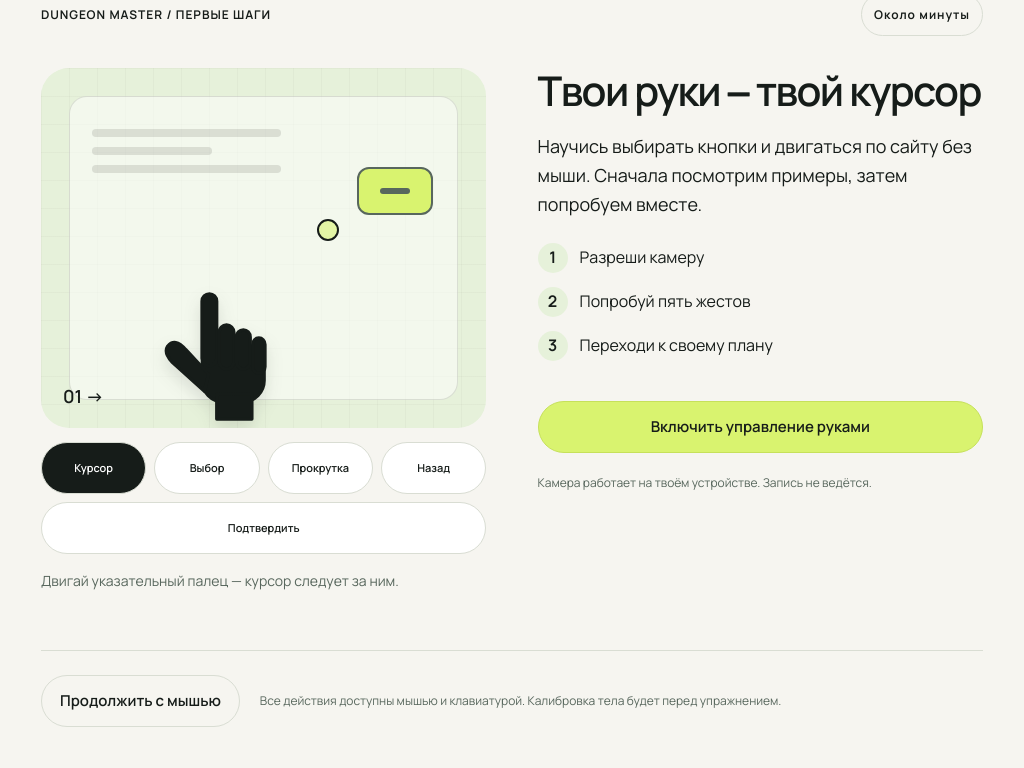
places hands introduction before voice selection without requesting camera or awaiting backend
(page scrolled)
Click the button "Продолжить с мышью" at (140, 701), box [41, 675, 240, 727]
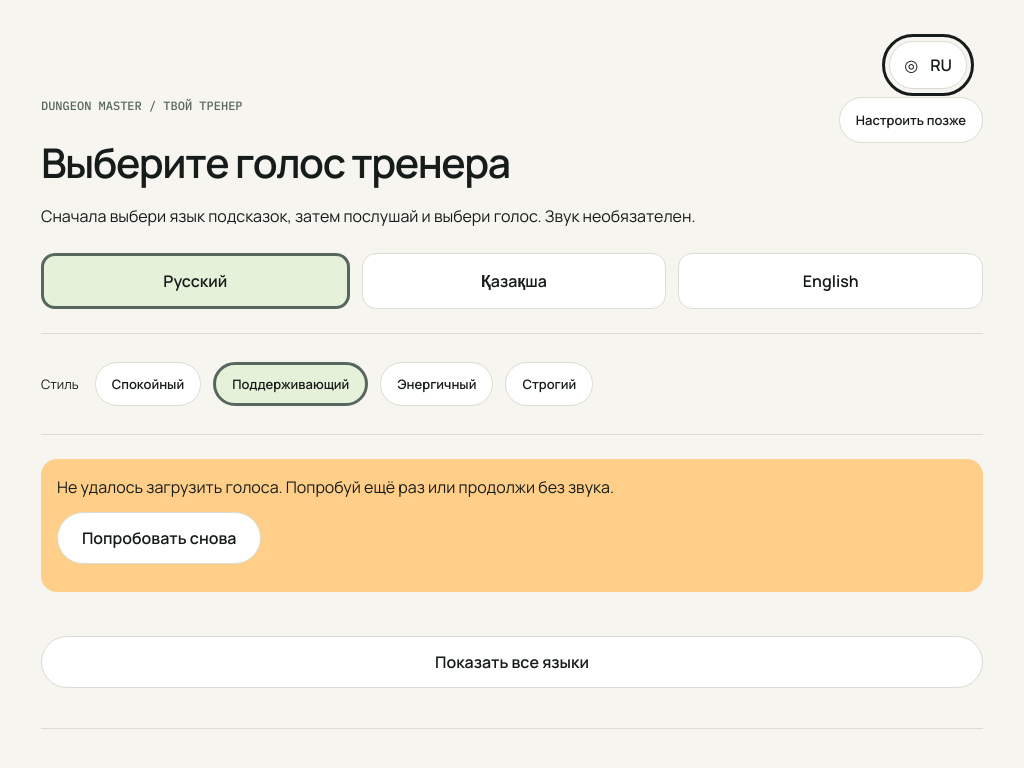
Result: the dialog with class "hands-intro" is gone
Result: the dialog is shown
